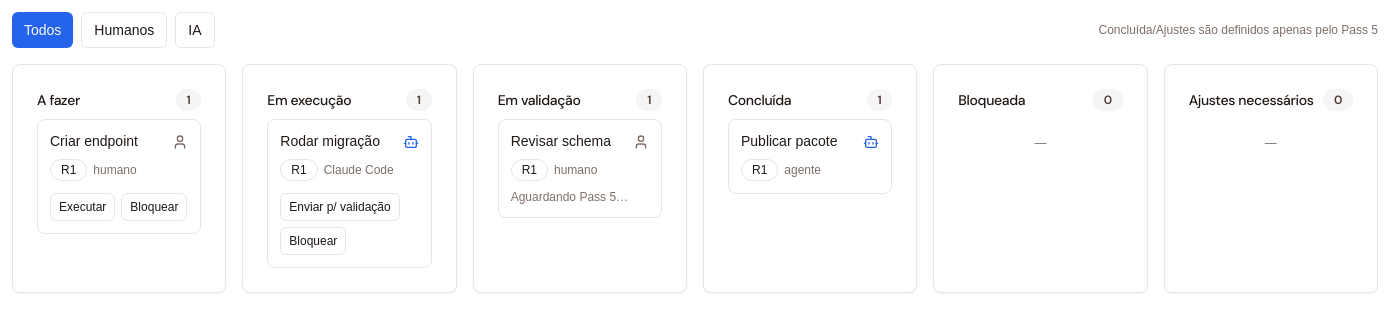
Test: SpecTaskBoard › filtro IA esconde tarefas humanas e mostra a do agente
Click the button "IA". click: (195, 30)
box: [175,12,214,48]
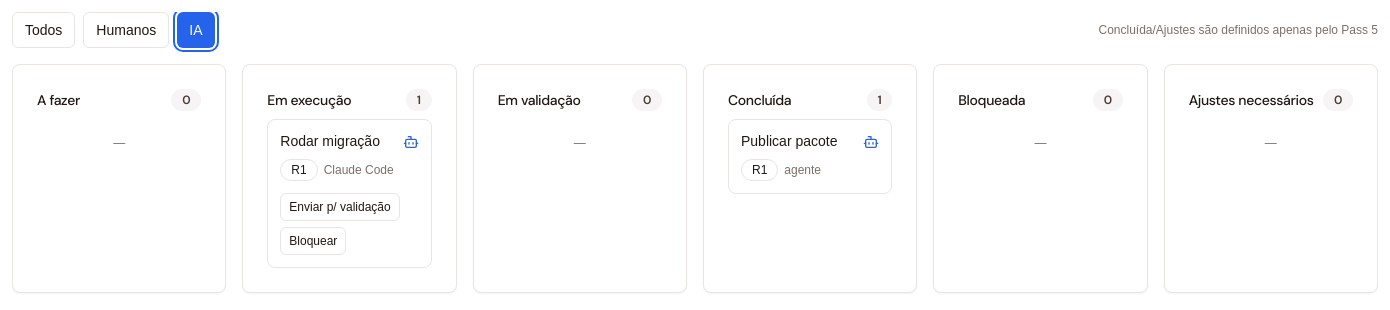
Expected: the text "Rodar migração" is shown, [280,132,380,151]
Now the text "Criar endpoint" is gone
